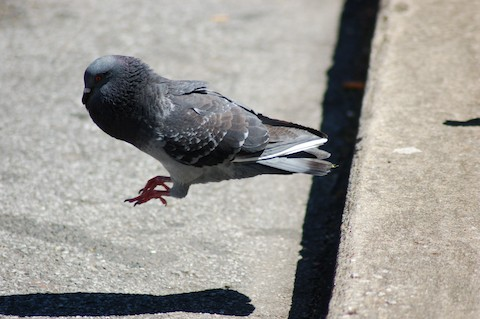pigeon: (80, 57, 349, 206)
